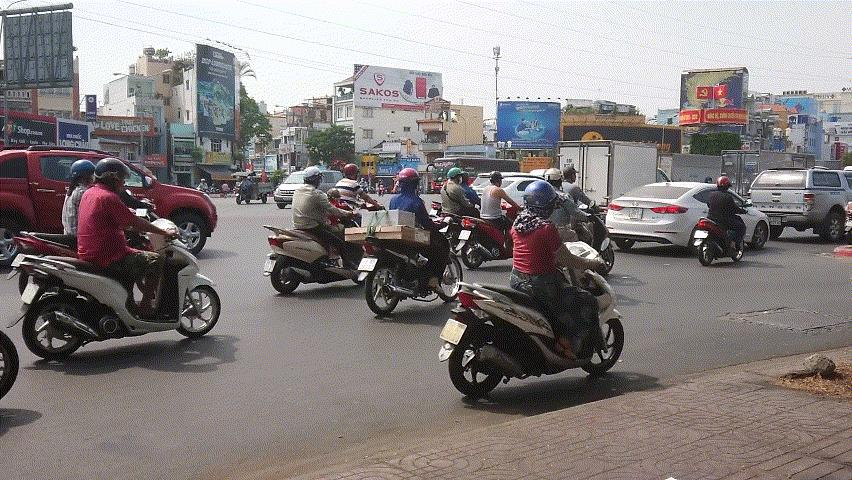driver: (6, 156, 220, 360), (438, 178, 626, 398), (345, 165, 464, 318), (454, 169, 526, 269), (693, 175, 755, 269)
helmet: (522, 179, 561, 220), (93, 158, 132, 196), (70, 159, 95, 186), (399, 168, 421, 193), (303, 166, 325, 188), (448, 167, 465, 185), (344, 164, 360, 180), (489, 170, 504, 187), (717, 176, 732, 191)
